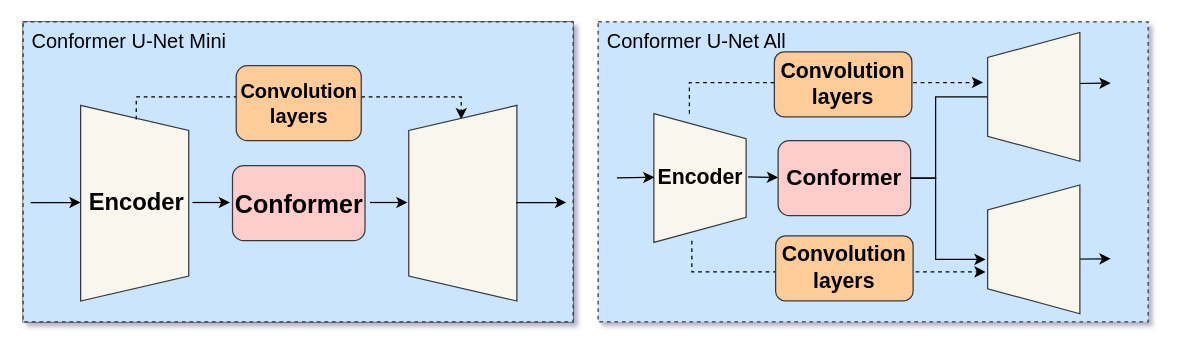
Some shapes in this 1178 by 351 pixel diagram are drawn without their labels. The centre of each missing label's shape, as x and y in pixels:
"Decoder" goes at [462,202].
"Imaginary Decoder" goes at [1033,249].
"Real Decoder" goes at [1033,96].
